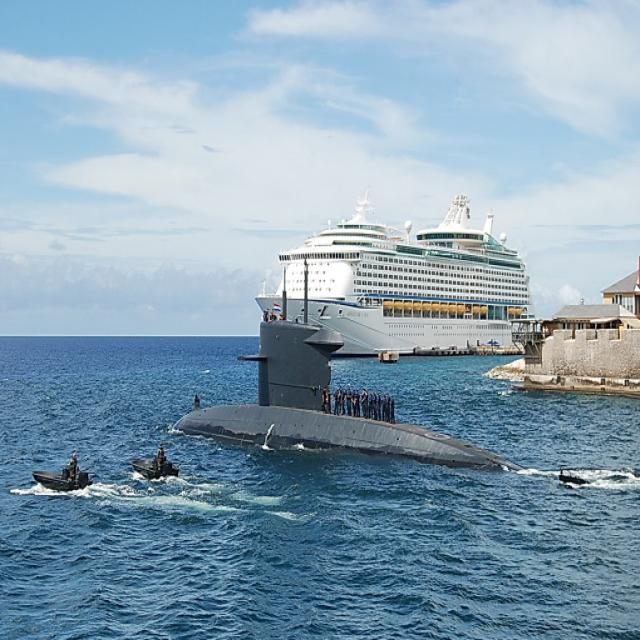submarine: (173, 265, 533, 471)
